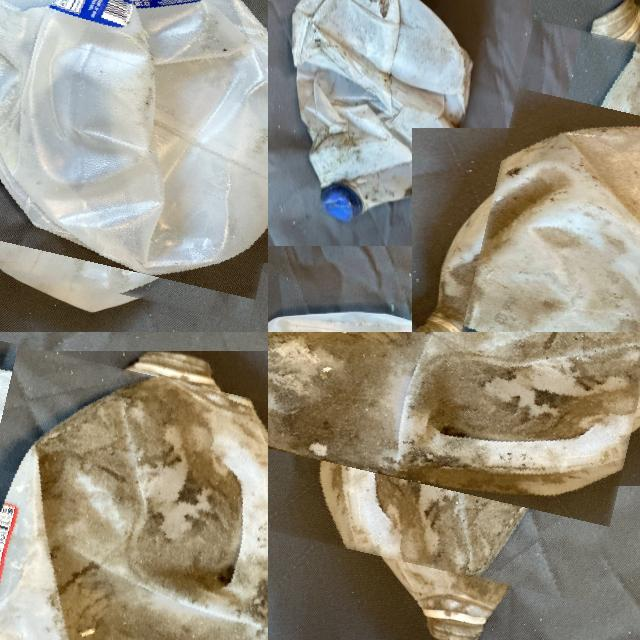milk-jug: (268, 332, 640, 585), (0, 0, 268, 306), (0, 357, 268, 640), (461, 38, 640, 332), (291, 0, 476, 219)
